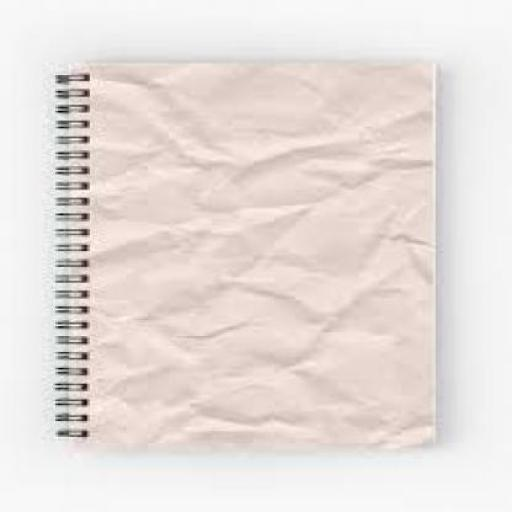paper: (68, 60, 442, 442)
